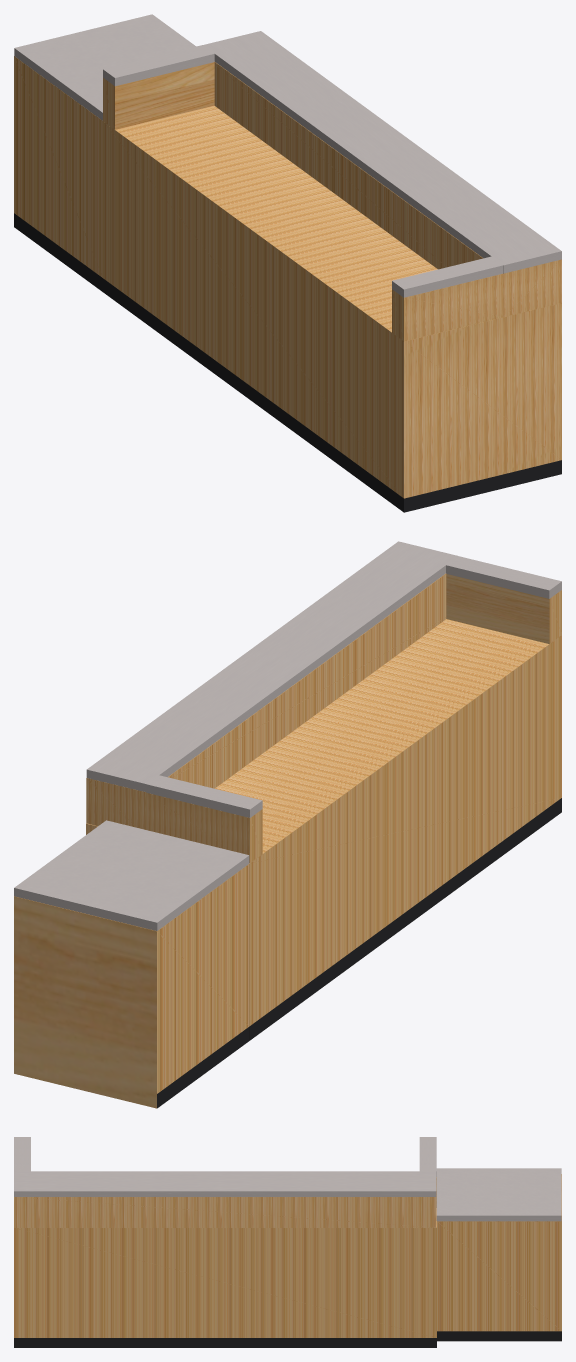
File: BarraPrin.obj
The picture shows the model from 3 angles, top to bottom: view 1: azimuth 30°, elevation 25°; view 2: azimuth 150°, elevation 25°; view 3: azimuth 270°, elevation 25°; orthographic projection. The views are drawn at different scales.
Parts seen in each view (by area): view 1: Vitrina:Vitrina7:Vitrina:Vitrina6:pCube3; view 2: Vitrina:Vitrina7:Vitrina:Vitrina6:pCube3; view 3: Vitrina:Vitrina7:Vitrina:Vitrina6:pCube3.
Boxes of the visible parts, left/top/right/bottom form: Vitrina:Vitrina7:Vitrina:Vitrina6:pCube3: left=14, top=14, right=561, bottom=512; Vitrina:Vitrina7:Vitrina:Vitrina6:pCube3: left=14, top=541, right=561, bottom=1108; Vitrina:Vitrina7:Vitrina:Vitrina6:pCube3: left=14, top=1137, right=561, bottom=1347.
Size of the model in its own units: 1.4 by 1.89 by 6.
Materials: 6 (6 with a texture image).
